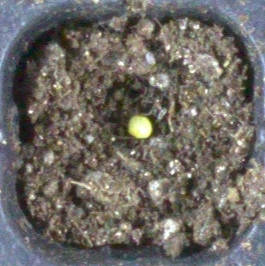chilli seed: (127, 114, 152, 139)
